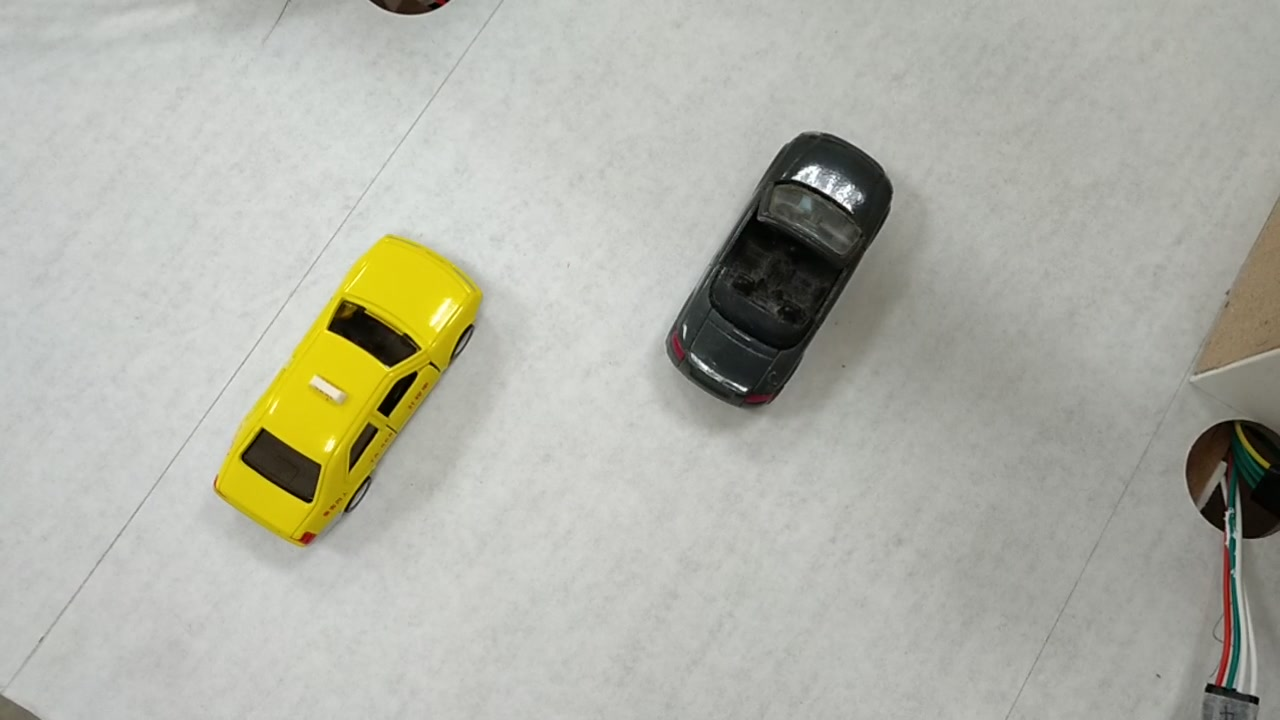car: (209, 238, 481, 551), (665, 134, 897, 401)
